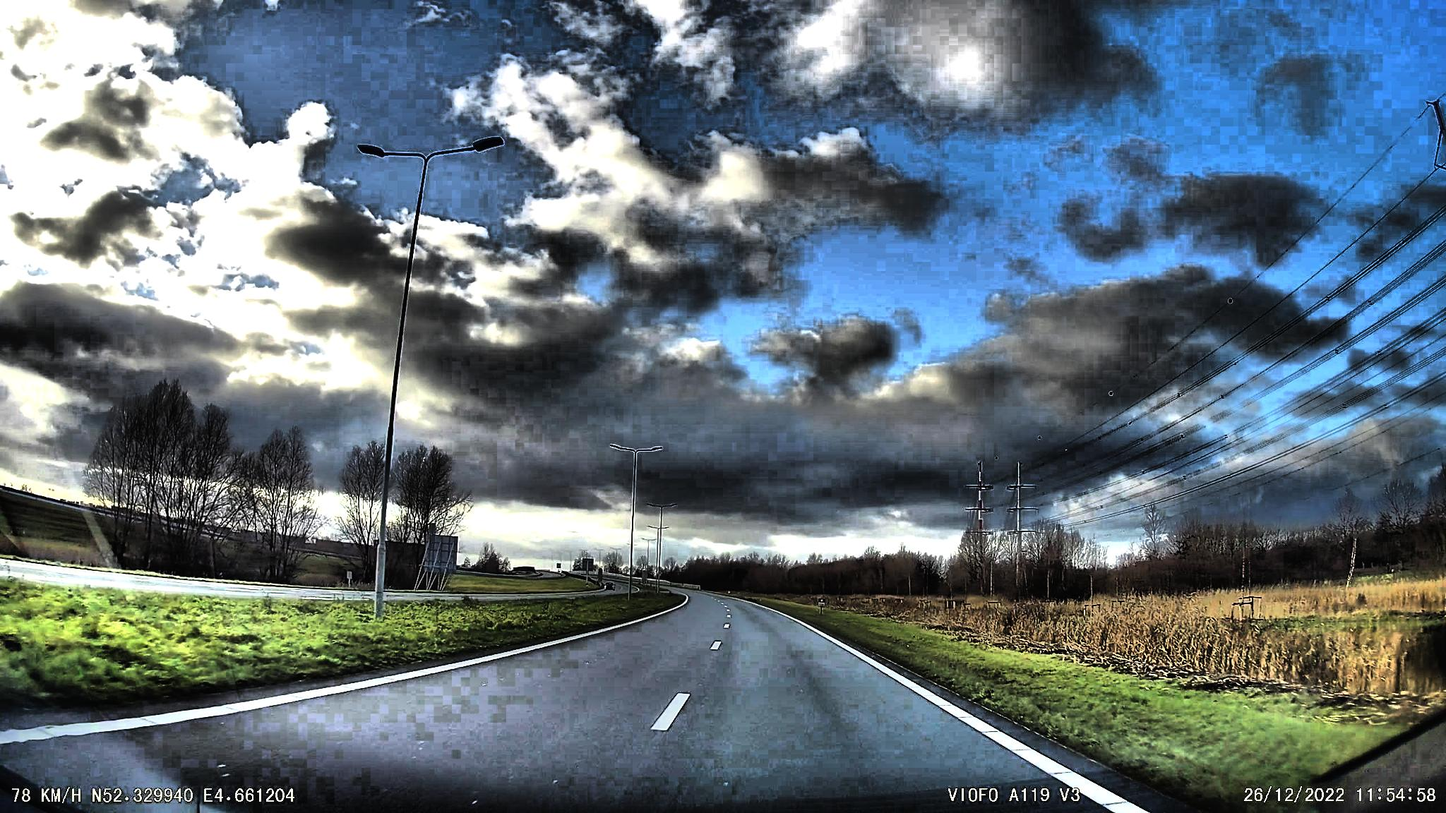Roads: (0, 592, 1199, 813)
